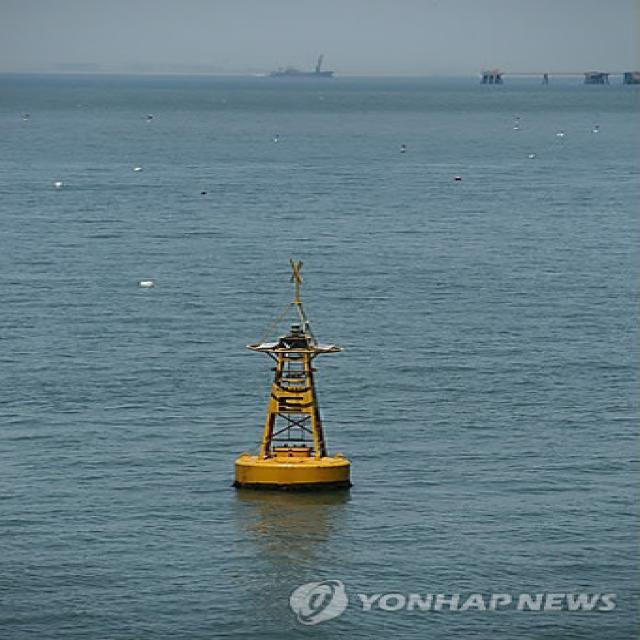marque: (187, 236, 384, 507)
